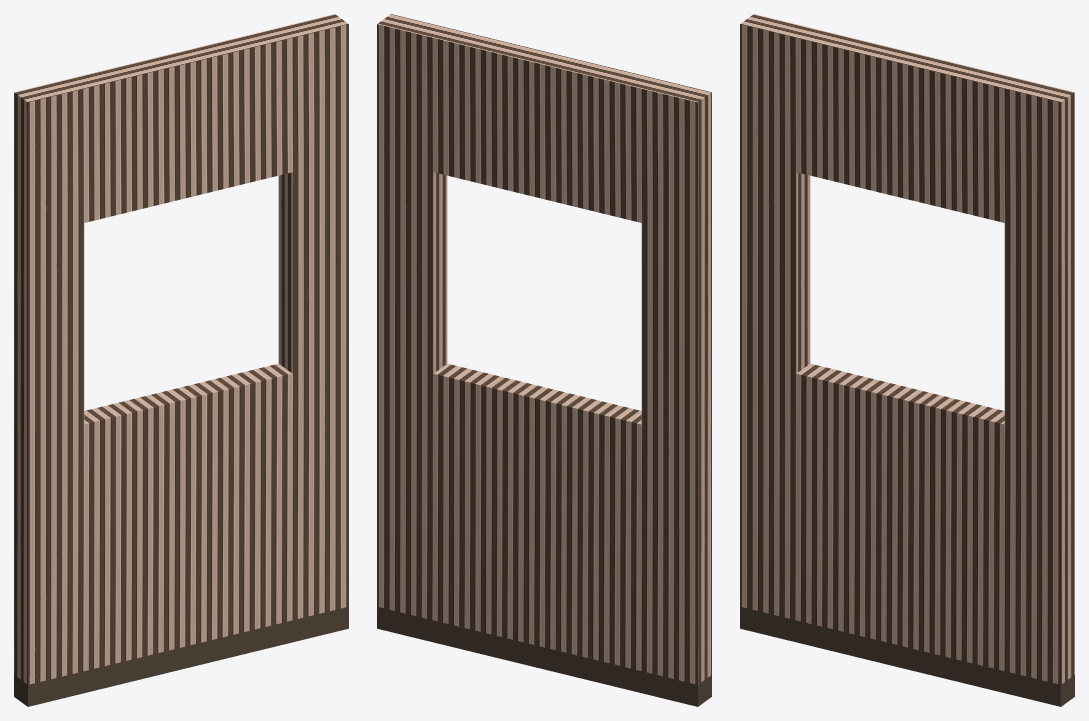
File: ARC0210030.fbx
The picture shows the model from 3 angles, left to right: view 1: azimuth 30°, elevation 25°; view 2: azimuth 150°, elevation 25°; view 3: azimuth 330°, elevation 25°; orthographic projection.
Visible parts, largest first — view 1: smARC0210030; view 2: smARC0210030; view 3: smARC0210030.
Boxes of the visible parts, left/top/right/bottom form: smARC0210030: left=14, top=14, right=348, bottom=706; smARC0210030: left=377, top=14, right=711, bottom=706; smARC0210030: left=740, top=14, right=1074, bottom=706.
Size of the model in its own units: 182 by 328 by 13.67.
1 material, 1 textured.
